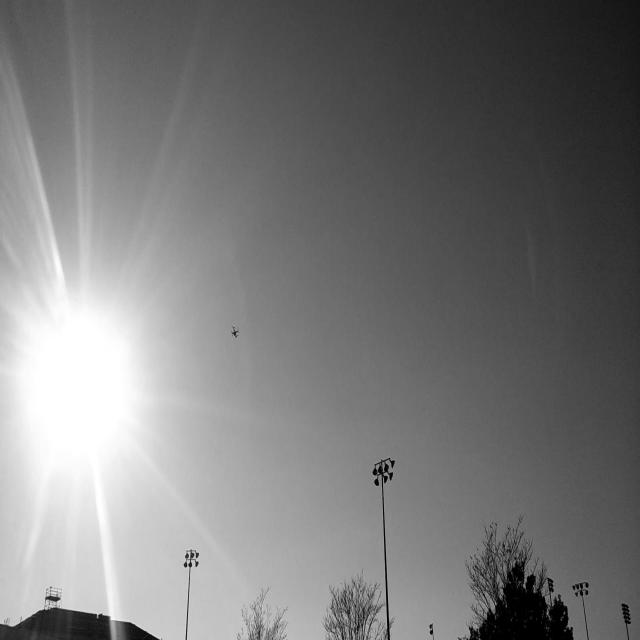drone: (227, 319, 241, 340)
